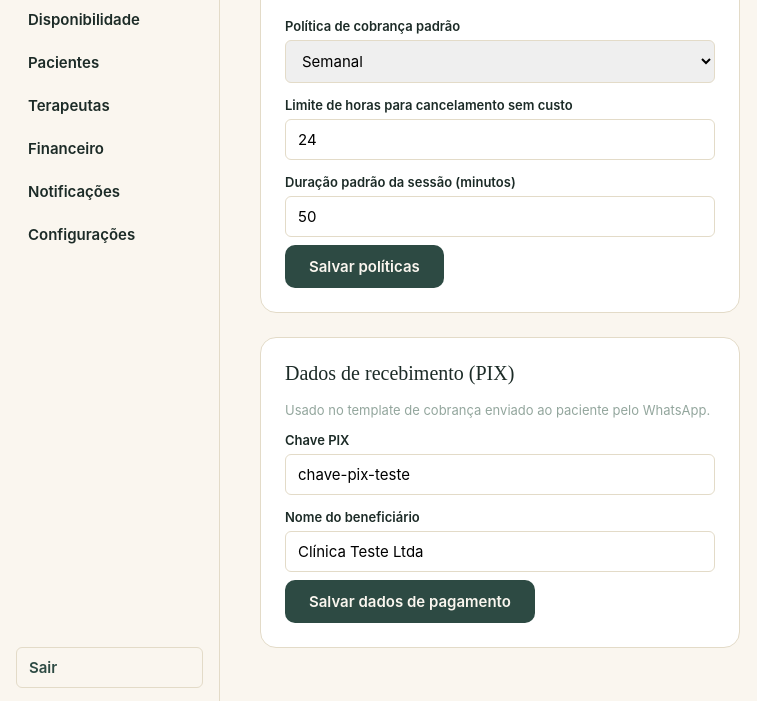
Test: ConfiguracoesPage — formulários › terapeuta: a recusa da API ao salvar vira uma frase clara sobre permissão
(page scrolled)
Expected: the 1st field showing "chave-pix-teste" is shown, [285,454,715,495]
Click the button "Salvar dados de pagamento" at x=410, y=601, box [285,580,535,623]
(page scrolled)
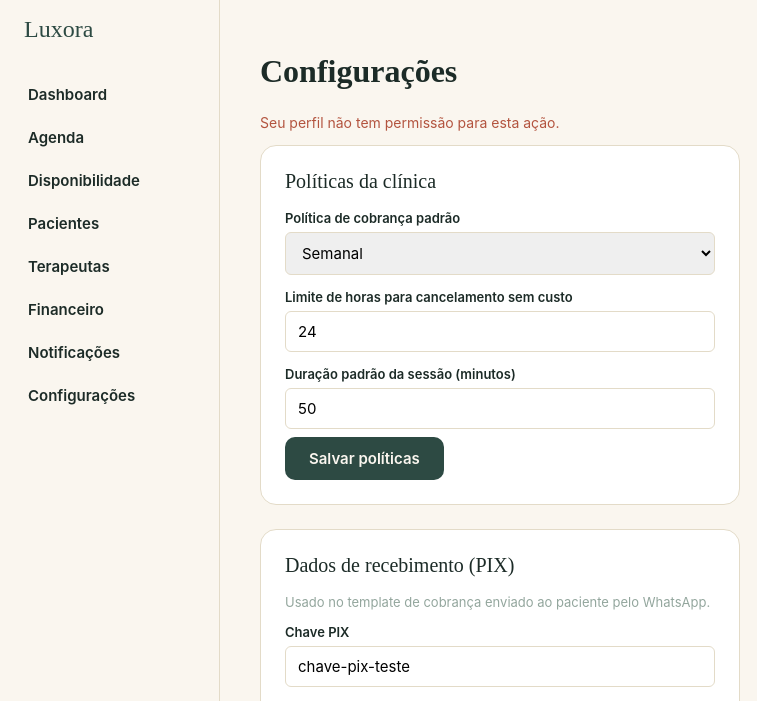
Expected: the message reads "Seu perfil não tem permissão para esta ação.", [260,114,560,131]
